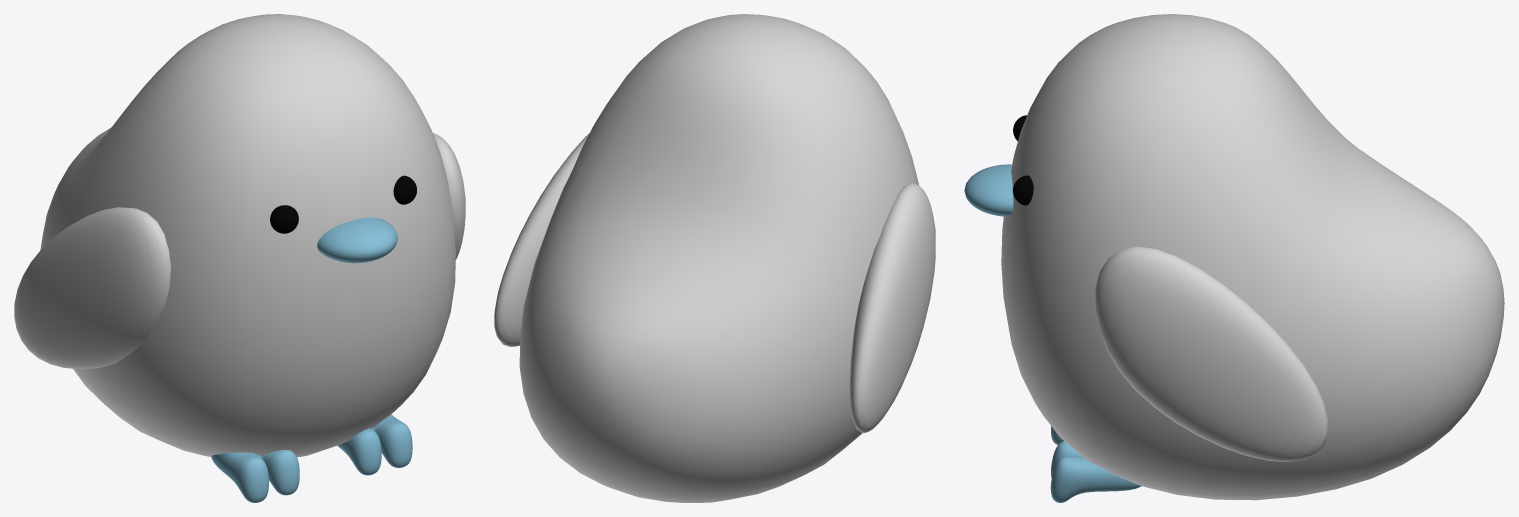
Rendered from Bird.fbx.
The picture shows the model from 3 angles, left to right: view 1: azimuth 30°, elevation 25°; view 2: azimuth 150°, elevation 25°; view 3: azimuth 270°, elevation 25°; orthographic projection. The views are drawn at different scales.
Parts seen in each view (by area): view 1: body2, R_wing, L_wing; view 2: body2, R_wing, L_wing; view 3: body2, L_wing.
Boxes of the visible parts, x1,y1,x2,y2 form: body2: [40, 14, 455, 502]; R_wing: [14, 207, 170, 369]; L_wing: [433, 133, 465, 259]; body2: [519, 14, 919, 502]; R_wing: [849, 183, 935, 433]; L_wing: [494, 133, 589, 347]; body2: [964, 14, 1504, 502]; L_wing: [1094, 246, 1327, 462].
Size of the model in its own units: 0.1831 by 0.195 by 0.2136.
